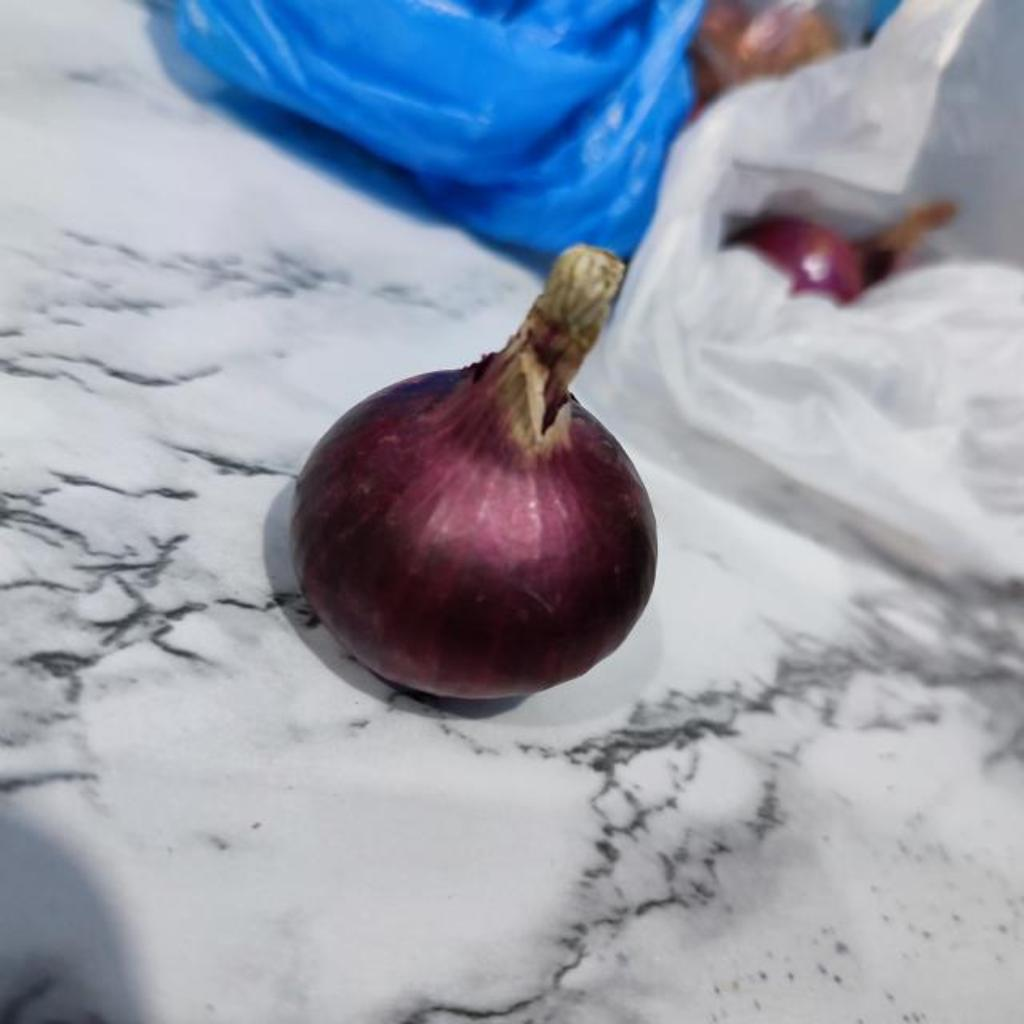Onion: (293, 246, 658, 698)
